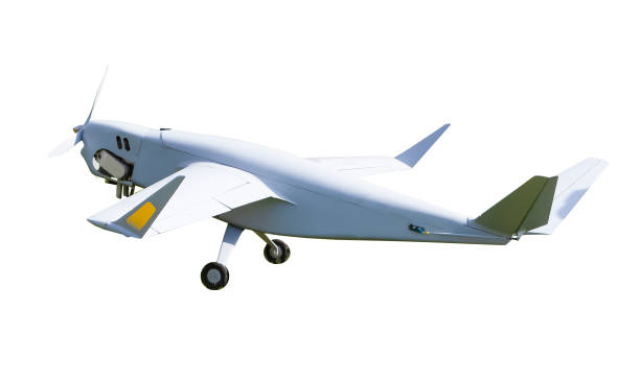military drone: (47, 63, 609, 290)
